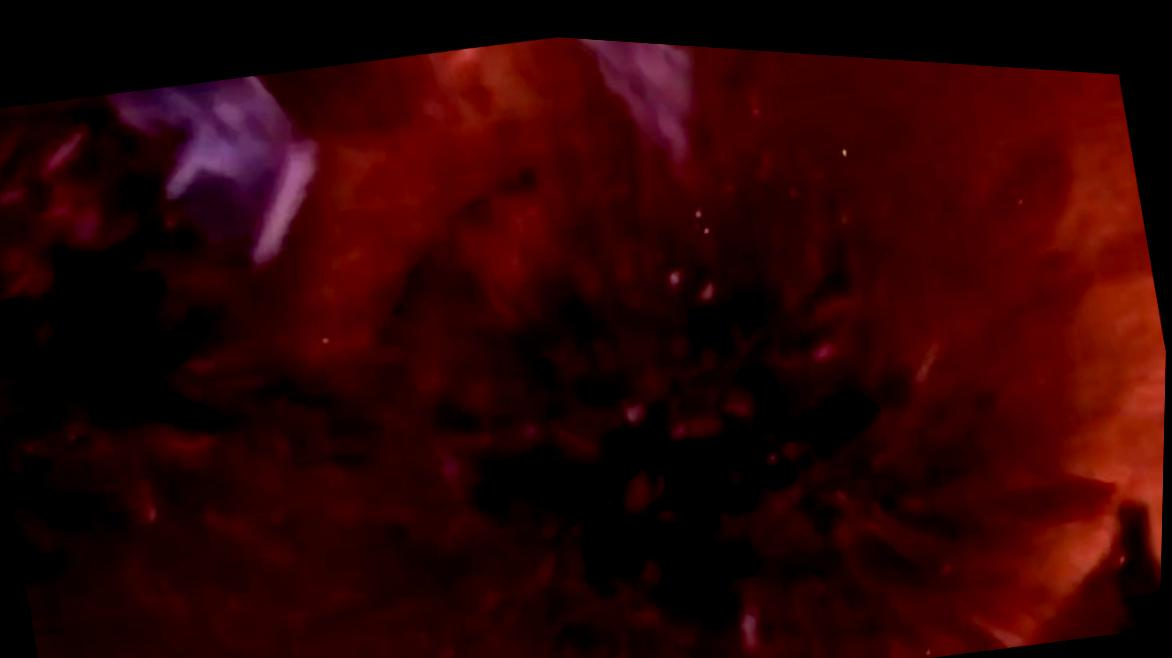Fire: (0, 29, 1123, 658)
